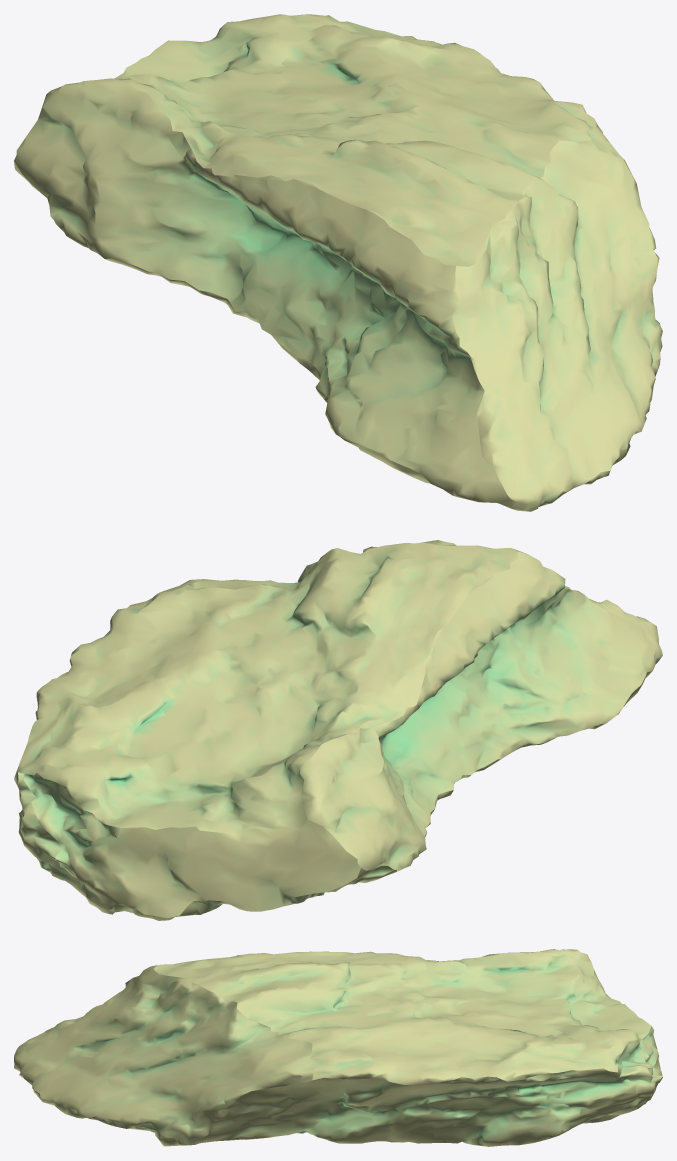
File: scan_07.glb
3 renders of one model, top to bottom at view 1: azimuth 30°, elevation 25°; view 2: azimuth 150°, elevation 25°; view 3: azimuth 270°, elevation 25°, orthographic. The views are drawn at different scales.
Size of the model in its own units: 0.9745 by 0.4328 by 1.9.
